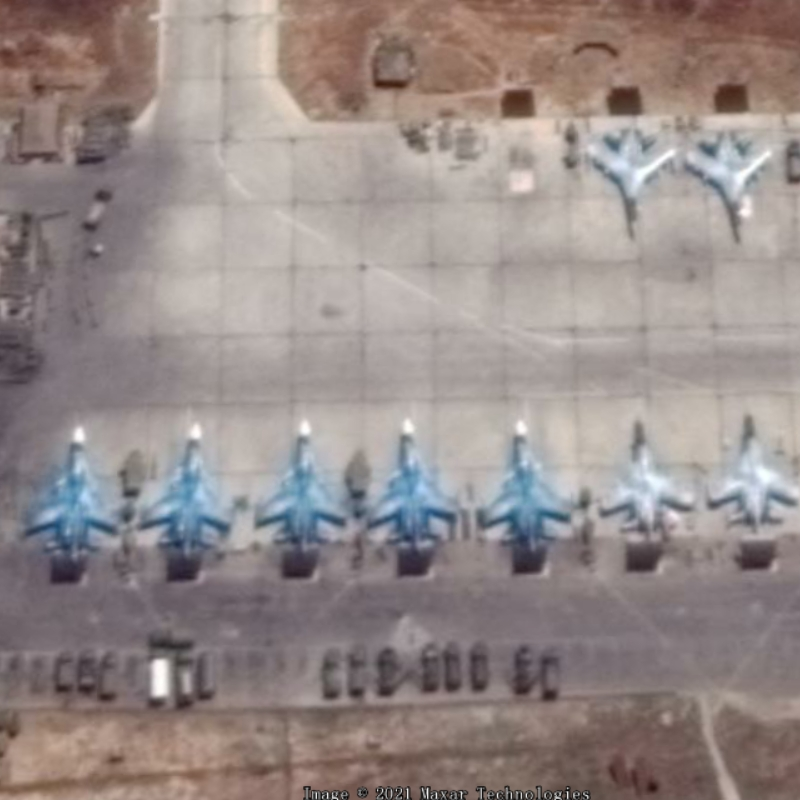A1: (597, 414, 698, 545), (581, 115, 681, 243), (702, 406, 800, 536), (682, 123, 775, 246)
A19: (473, 414, 579, 557), (22, 420, 125, 566), (136, 416, 235, 564), (363, 415, 464, 560), (252, 415, 354, 555)
